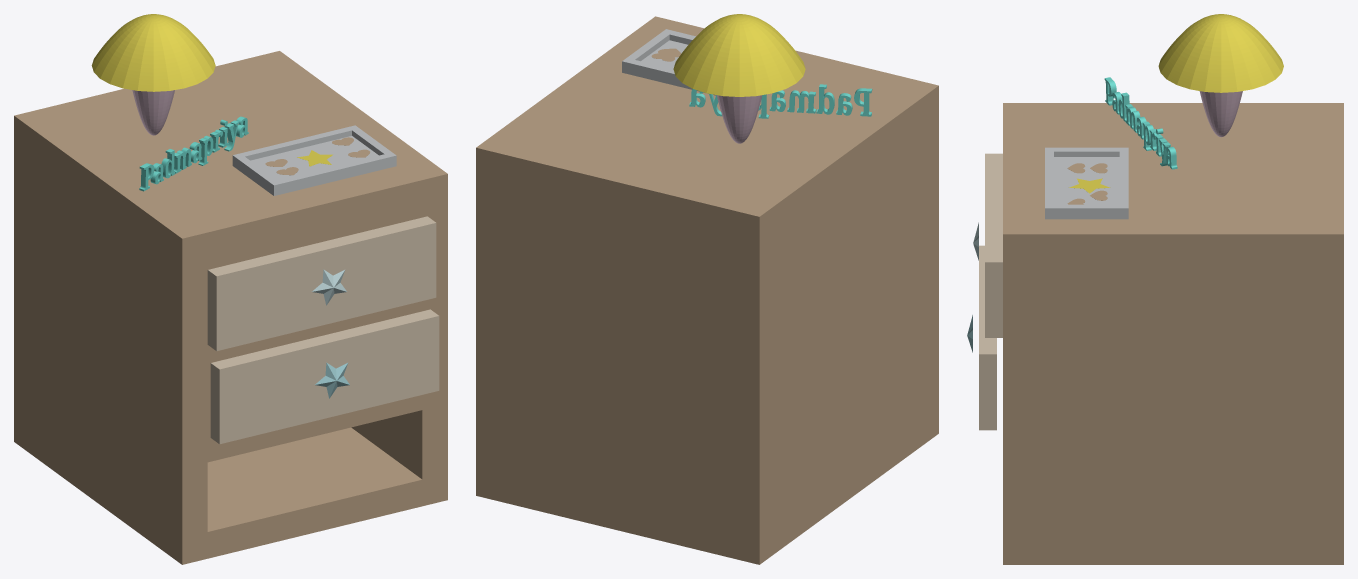
File: k1FCnydGMKn (2).glb
3 views of the same model, side by side, from view 1: azimuth 30°, elevation 25°; view 2: azimuth 150°, elevation 25°; view 3: azimuth 270°, elevation 25° (orthographic). The views are drawn at different scales.
Parts seen in each view (by area): view 1: Mesh_Mesh_head_geo.001_lambert2SG.001; view 2: Mesh_Mesh_head_geo.001_lambert2SG.001; view 3: Mesh_Mesh_head_geo.001_lambert2SG.001.
Boxes of the visible parts, x1,y1,x2,y2 form: Mesh_Mesh_head_geo.001_lambert2SG.001: (14, 14, 447, 564); Mesh_Mesh_head_geo.001_lambert2SG.001: (476, 14, 938, 564); Mesh_Mesh_head_geo.001_lambert2SG.001: (967, 14, 1343, 564).
Size of the model in its own units: 52 by 84 by 63.
